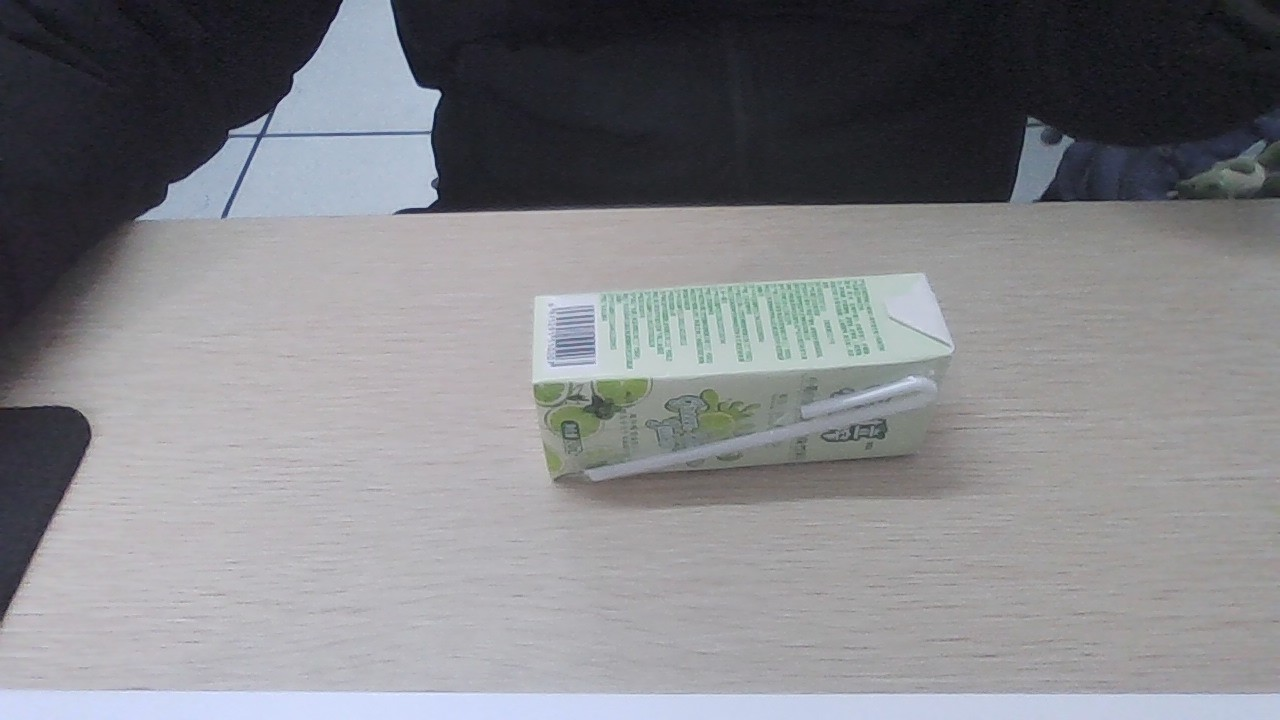CY-drink: (520, 286, 942, 473)
